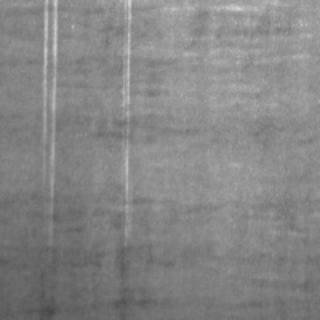scratches: (35, 0, 57, 204), (117, 0, 133, 224)
